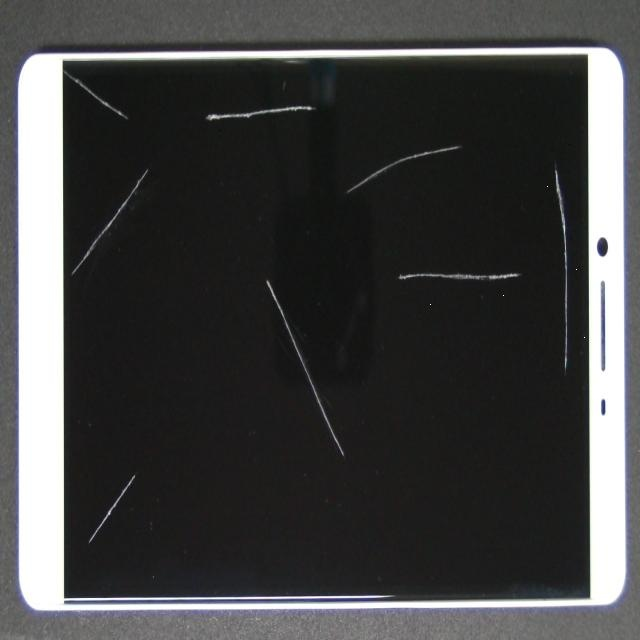scratch: (265, 0, 640, 376), (194, 109, 582, 414), (40, 259, 127, 640), (96, 75, 291, 225)
